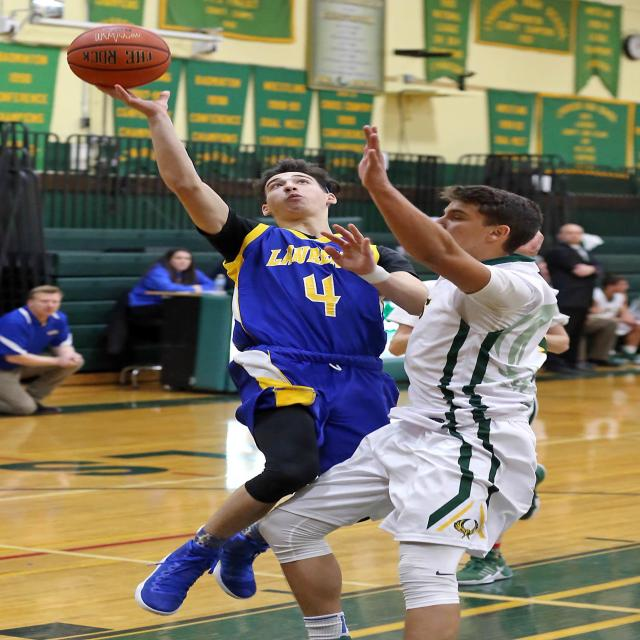body: (64, 20, 434, 624), (258, 122, 562, 640), (387, 279, 570, 586), (114, 246, 222, 355), (0, 283, 86, 418), (540, 220, 600, 374), (589, 273, 640, 365)
